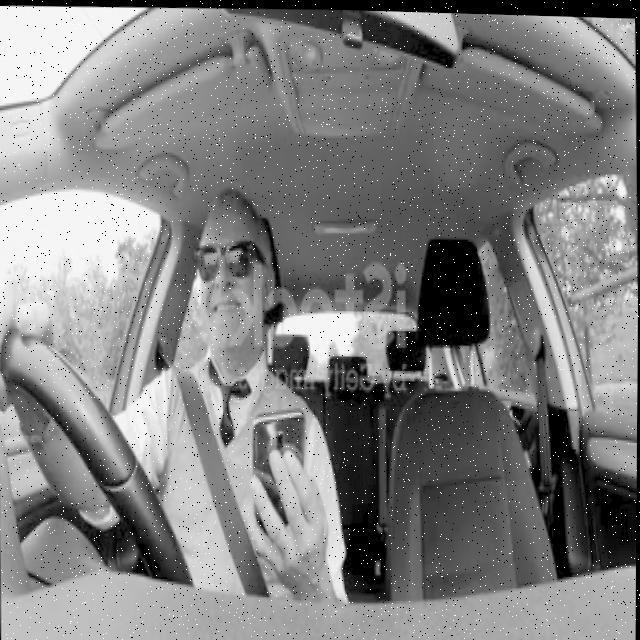PhoneCall: (249, 406, 310, 574)
